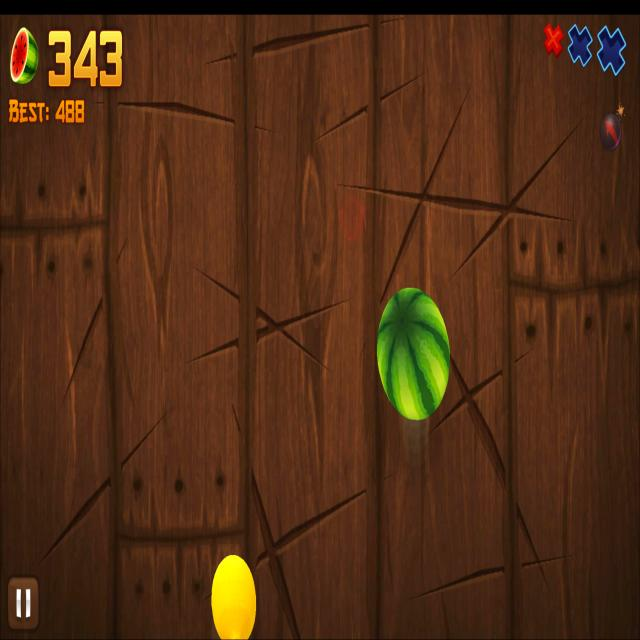fruit: (377, 287, 451, 420), (210, 554, 257, 640)
